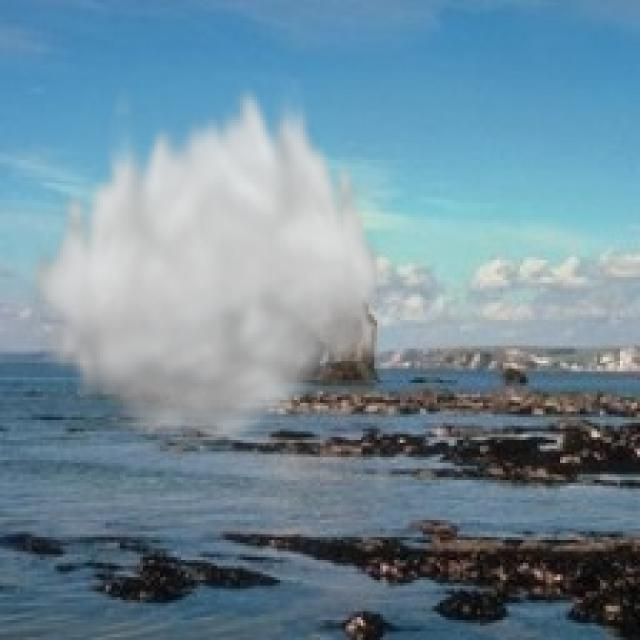Smoke: (26, 74, 386, 452)
